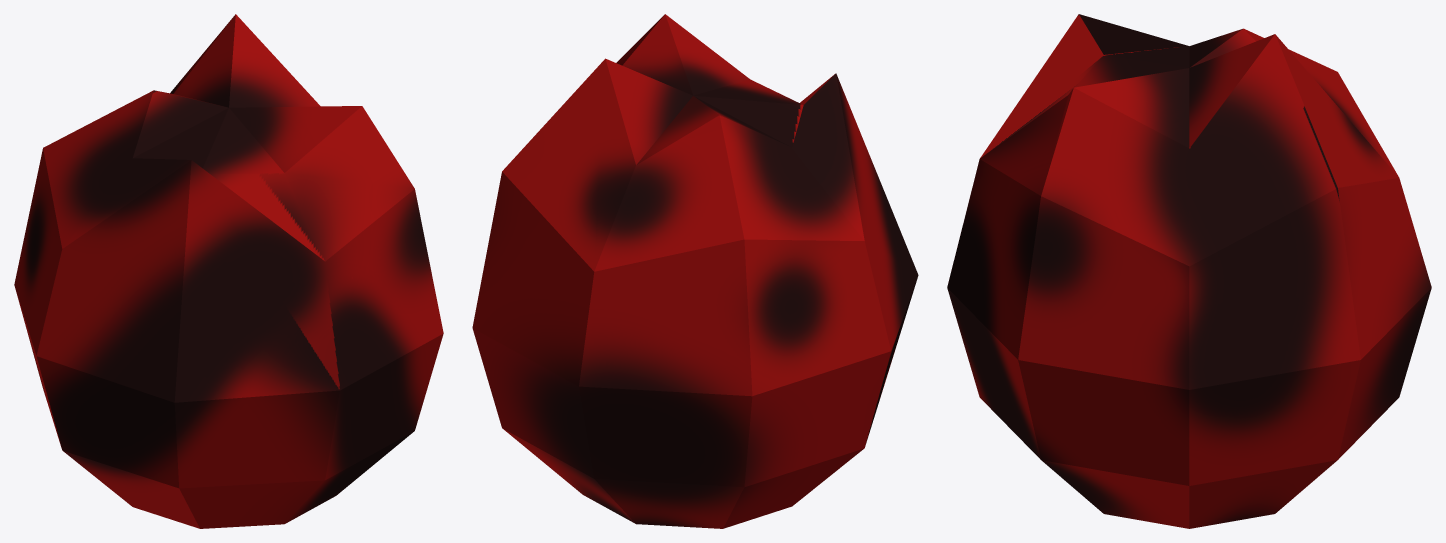
File: Life_Orb.fbx
The picture shows the model from 3 angles, left to right: view 1: azimuth 30°, elevation 25°; view 2: azimuth 150°, elevation 25°; view 3: azimuth 270°, elevation 25°; orthographic projection. The views are drawn at different scales.
Visible parts, largest first — view 1: Sphere; view 2: Sphere; view 3: Sphere.
Part boxes in pixels (x1=…): Sphere: x1=14, y1=14, x2=443, y2=528; Sphere: x1=472, y1=14, x2=918, y2=528; Sphere: x1=947, y1=14, x2=1431, y2=528.
Size of the model in its own units: 200 by 227 by 200.
Materials: 1 (1 with a texture image).
